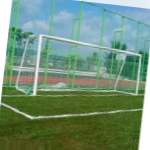goals: (15, 32, 143, 101)
